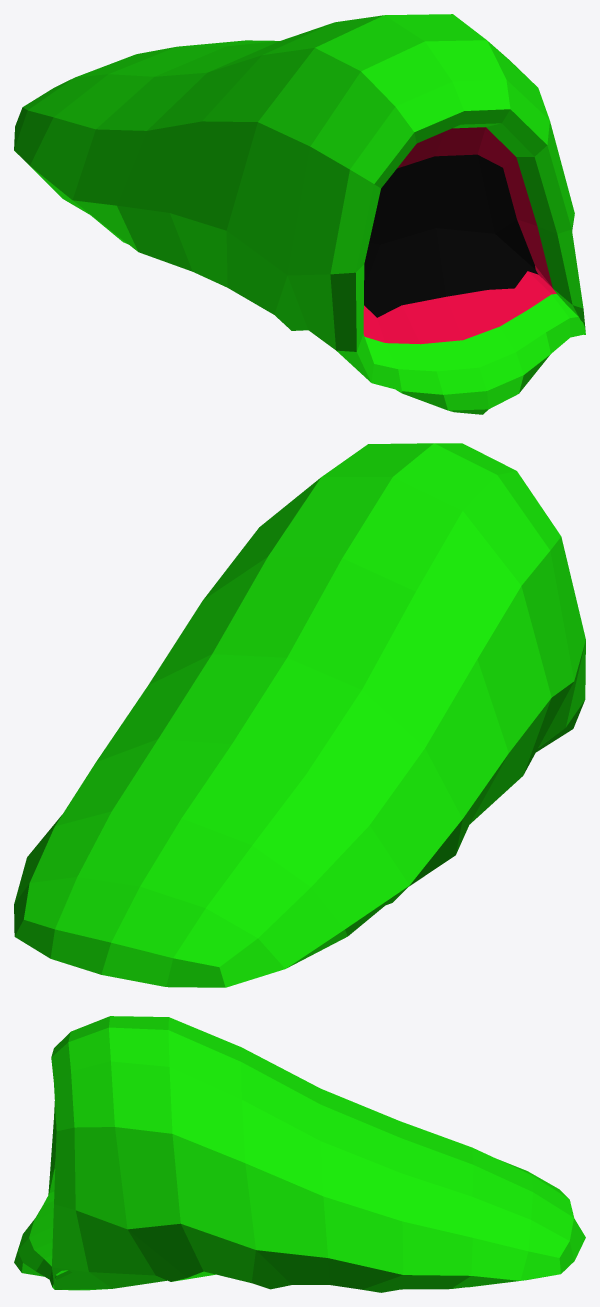
Rendered from enemy absorber.fbx.
3 views of the same model, one above another, from view 1: azimuth 30°, elevation 25°; view 2: azimuth 150°, elevation 25°; view 3: azimuth 270°, elevation 25° (orthographic). The views are drawn at different scales.
Visible parts, largest first — view 1: Cube.022; view 2: Cube.022; view 3: Cube.022.
Part boxes in pixels (<box>): Cube.022: <box>14,14,585,414</box>; Cube.022: <box>14,443,585,987</box>; Cube.022: <box>14,1016,585,1292</box>.
Bounding box in the file's own units: 295 × 273 × 588.
